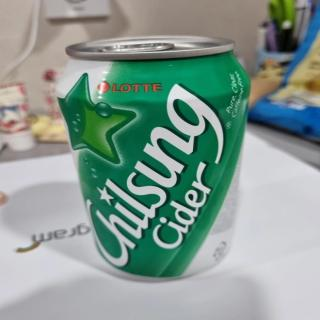chilsung: (55, 35, 250, 284)
